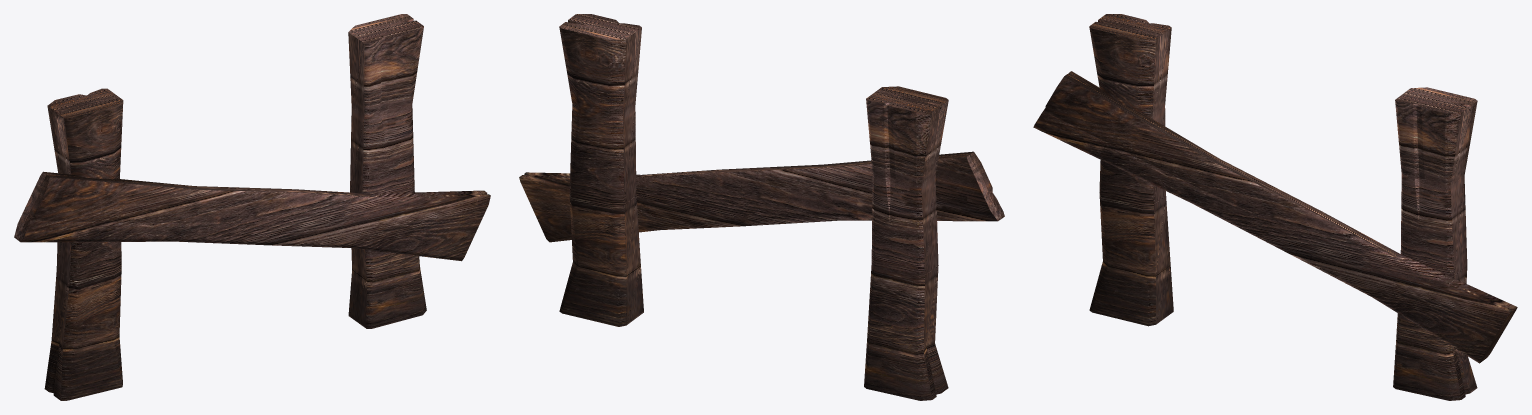
File: CercaDos.fbx
3 views of the same model, side by side, from view 1: azimuth 30°, elevation 25°; view 2: azimuth 150°, elevation 25°; view 3: azimuth 330°, elevation 25° (orthographic).
Visible parts, largest first — view 1: Cerca001; view 2: Cerca001; view 3: Cerca001.
Part boxes in pixels (x1,y1,x2,y2): Cerca001: (14,14,490,400); Cerca001: (519,14,1004,400); Cerca001: (1033,14,1517,400).
Size of the model in its own units: 0.4577 by 0.2633 by 0.0505.
